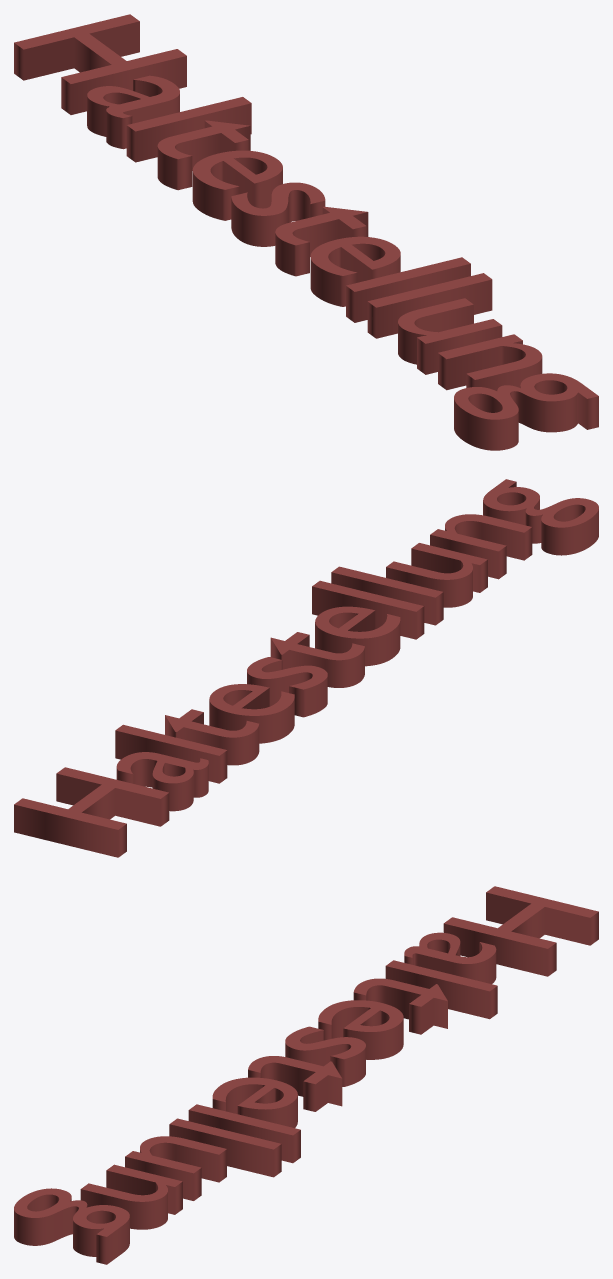
Rendered from Haltestellung_Text.glb.
The picture shows the model from 3 angles, top to bottom: view 1: azimuth 30°, elevation 25°; view 2: azimuth 150°, elevation 25°; view 3: azimuth 330°, elevation 25°; orthographic projection. The views are drawn at different scales.
Visible parts, largest first — view 1: Text; view 2: Text; view 3: Text.
Part boxes in pixels (x1,y1,x2,y2): Text: (14, 14, 598, 450); Text: (14, 479, 598, 857); Text: (14, 886, 598, 1264).
Size of the model in its own units: 2.1 by 0.4 by 11.89.
